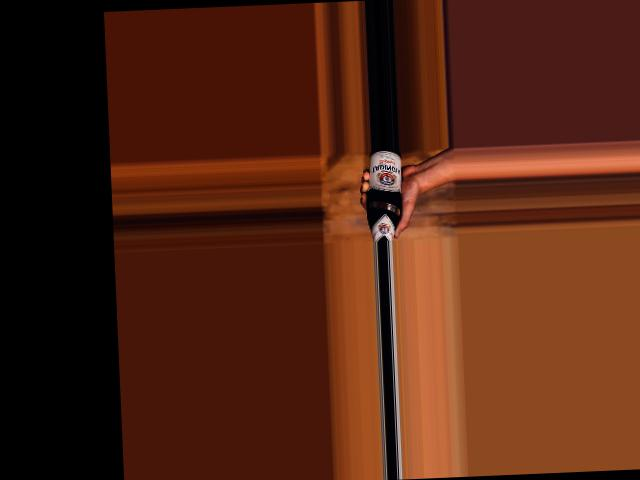beer: (364, 149, 405, 240)
